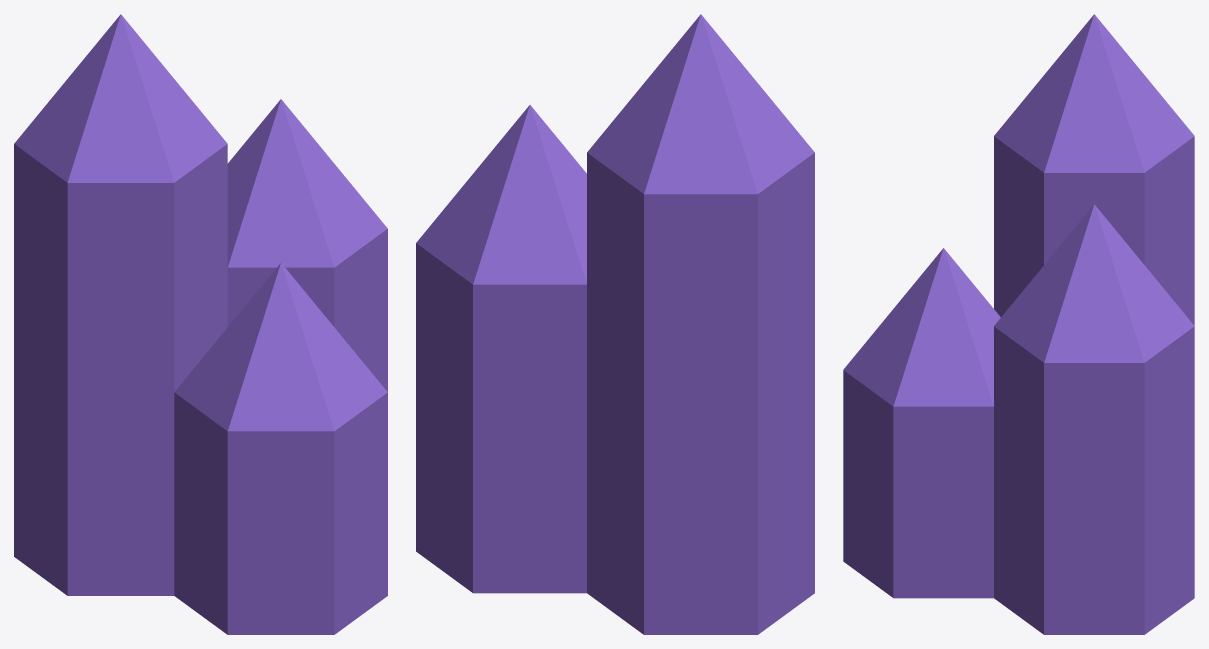
Rendered from RPG_Tiles_Crystal_01.FBX.
The picture shows the model from 3 angles, left to right: view 1: azimuth 30°, elevation 25°; view 2: azimuth 150°, elevation 25°; view 3: azimuth 270°, elevation 25°; orthographic projection. The views are drawn at different scales.
Visible parts, largest first — view 1: RPG_Tiles_Crystal_01; view 2: RPG_Tiles_Crystal_01; view 3: RPG_Tiles_Crystal_01.
Boxes of the visible parts, x1,y1,x2,y2 form: RPG_Tiles_Crystal_01: (14, 14, 387, 634); RPG_Tiles_Crystal_01: (416, 14, 814, 634); RPG_Tiles_Crystal_01: (843, 14, 1194, 634).
Size of the model in its own units: 1335 by 2161 by 1348.
